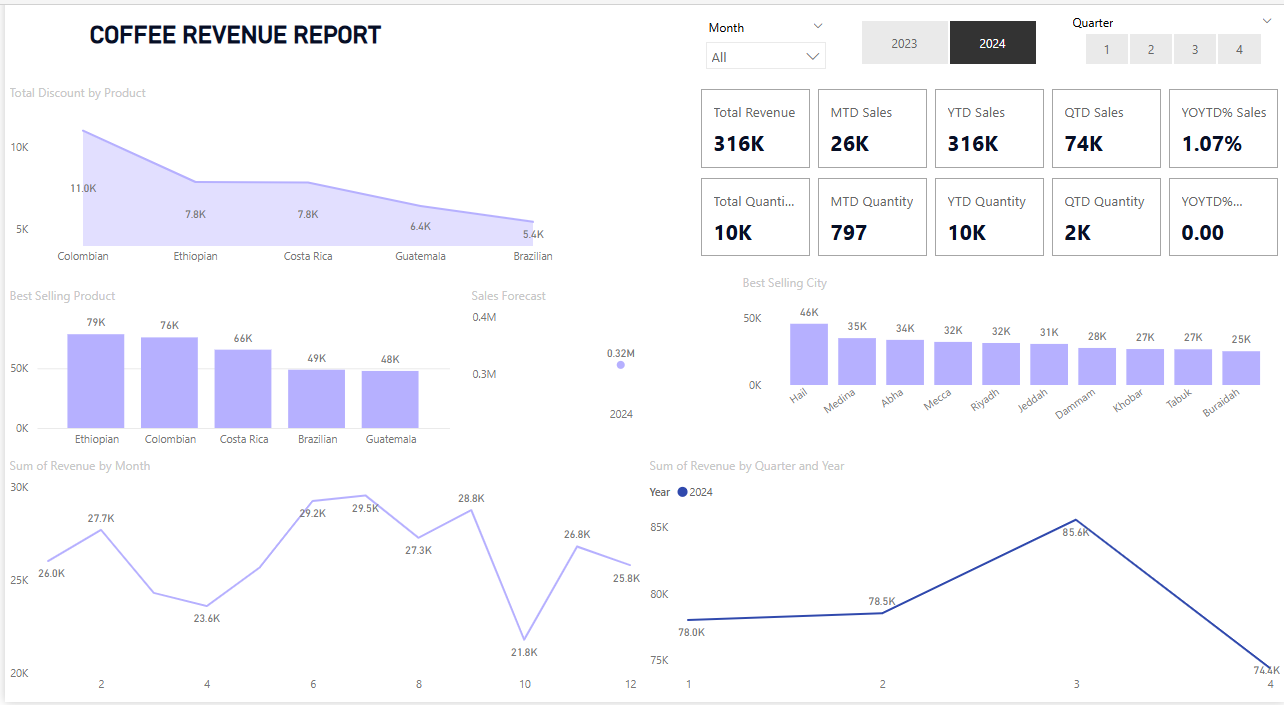

The dashboard page shown, as its layout file describes it:
{"tool":"powerbi","page":{"name":"Page 1","canvas":[1280,720],"ordinal":0},"visuals":[{"type":"cardVisual","fields":{"Data":["Sum(Sales.Revenue)","Metrics.MTD Sales","Metrics.YTD Sales","Metrics.QTD Sales","Metrics.YOYTD%"]},"box":[690.6,102.1,589.4,88.5],"z":0},{"type":"cardVisual","fields":{"Data":["Sum(Sales.Quantity)","Metrics.MTD Quantity","Metrics.YTD Quantity","Metrics.QTD Quantity","Metrics.YOYTD% Quantity Sold"]},"box":[690.6,190.6,589.4,88.5],"z":1},{"type":"lineChart","fields":{"Y":["Sum(Sales.Revenue)"],"Category":["DateTable.Month"]},"box":[0,474.7,640,245.1],"z":2},{"type":"slicer","fields":{"Values":["DateTable.Year"]},"box":[830.6,32.1,224.7,57.4],"z":3},{"type":"lineChart","fields":{"Y":["Sum(Sales.Revenue)"],"Category":["DateTable.Quarter"],"Series":["DateTable.Year"]},"box":[640,474.7,640,245.1],"z":4},{"type":"columnChart","title":"Best Selling Product","fields":{"Category":["Sales.Product"],"Y":["Sum(Sales.Revenue)"]},"box":[0,305.4,450.3,169.2],"z":5},{"type":"columnChart","title":"Best Selling City","fields":{"Y":["Sum(Sales.Revenue)"],"Category":["Sales.City"]},"box":[733.4,291.8,546.6,158.5],"z":6},{"type":"slicer","fields":{"Values":["DateTable.Month"]},"box":[690.6,32.1,140.1,57.4],"z":7},{"type":"slicer","fields":{"Values":["DateTable.Quarter"]},"box":[1055.3,27.2,224.7,62.2],"z":8},{"type":"stackedAreaChart","title":"Total Discount by Product","fields":{"Category":["Sales.Product"],"Y":["Sum(Sales.Discount_Amount)"]},"box":[0,102.1,577.8,189.7],"z":9},{"type":"textbox","box":[0,34,462,54.5],"z":10},{"type":"lineChart","title":"Sales Forecast","fields":{"Category":["DateTable.Year"],"Y":["Sum(Sales.Revenue)"]},"box":[462,305.4,271.4,144.9],"z":11}]}

Visuals, with their boxes in screenshot pixels (x1, y1, x2, y2), scaled from the page's 1280x720 canvas onto the 1284x705 screenshot:
cardVisual - Sum(Sales.Revenue) x Metrics.MTD Sales: BBox(693, 100, 1283, 187)
cardVisual - Sum(Sales.Quantity) x Metrics.MTD Quantity: BBox(693, 187, 1283, 273)
lineChart - Sum(Sales.Revenue) x DateTable.Month: BBox(0, 465, 642, 704)
slicer - DateTable.Year: BBox(833, 31, 1059, 88)
lineChart - Sum(Sales.Revenue) x DateTable.Quarter: BBox(642, 465, 1283, 704)
"Best Selling Product" columnChart: BBox(0, 299, 452, 465)
"Best Selling City" columnChart: BBox(736, 286, 1283, 441)
slicer - DateTable.Month: BBox(693, 31, 833, 88)
slicer - DateTable.Quarter: BBox(1059, 27, 1283, 88)
"Total Discount by Product" stackedAreaChart: BBox(0, 100, 580, 286)
textbox: BBox(0, 33, 463, 87)
"Sales Forecast" lineChart: BBox(463, 299, 736, 441)
